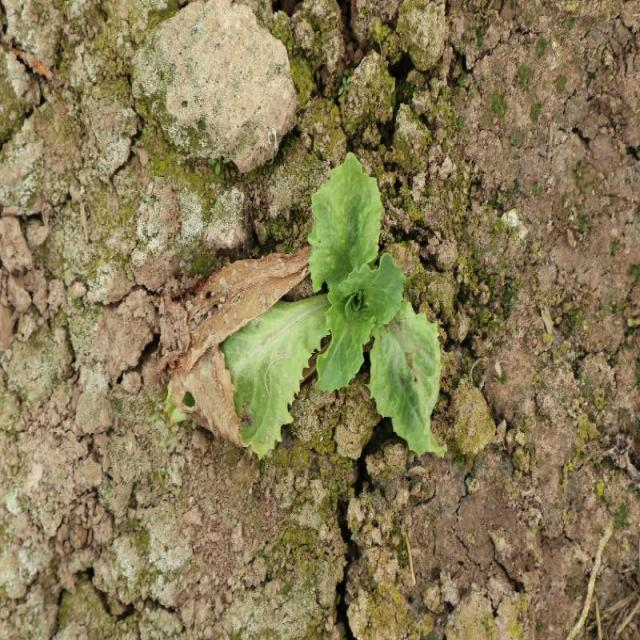crop: (309, 152, 446, 457)
